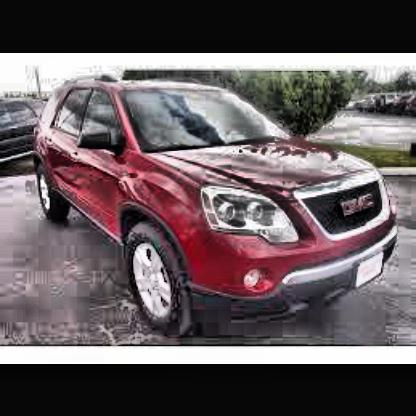GMC Acadia SUV 2012: (30, 76, 399, 323)
